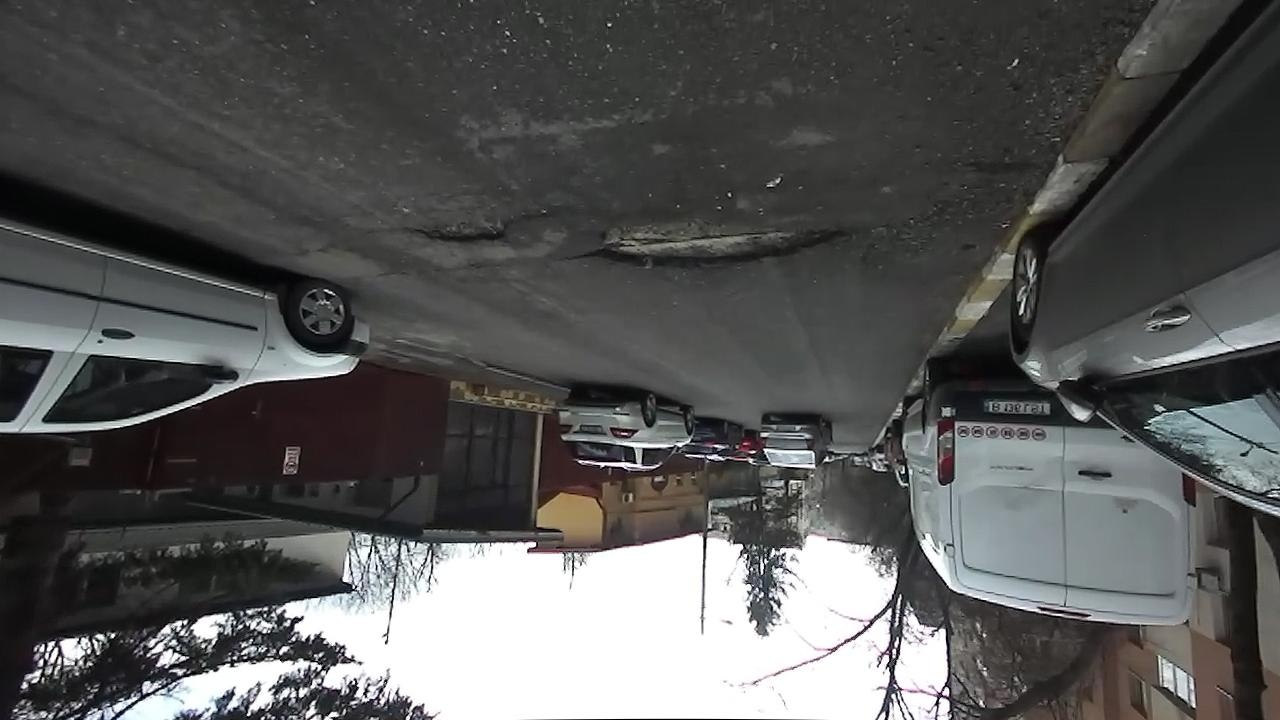pothole: (581, 213, 858, 272), (409, 207, 548, 248)
